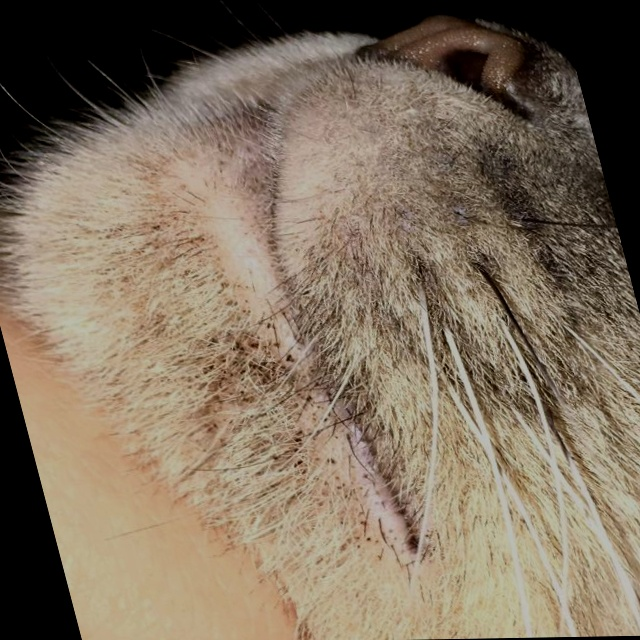acne: (176, 314, 384, 572)
